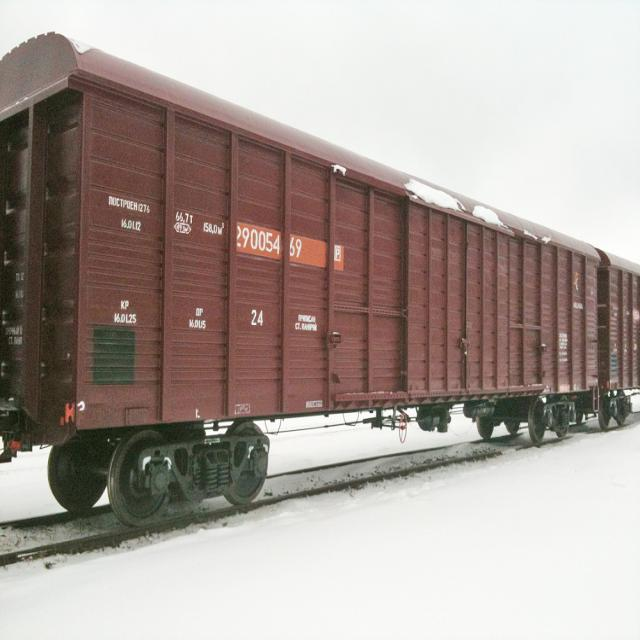boxcar: (1, 18, 602, 531), (603, 242, 640, 431)
